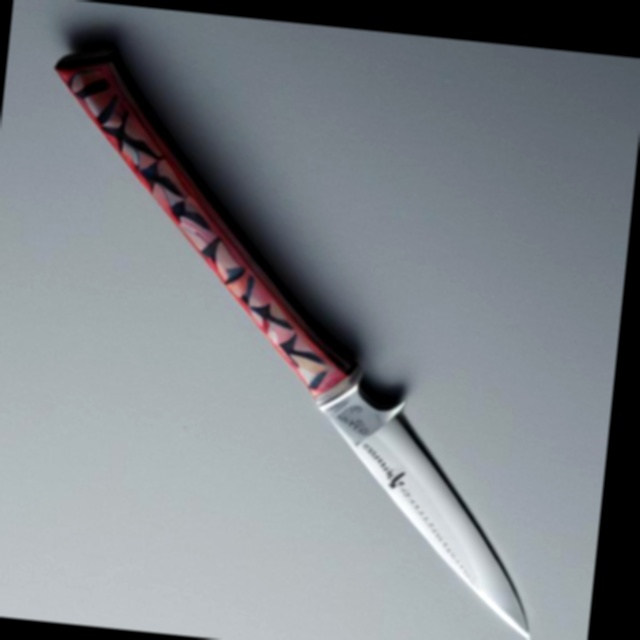Sharp-Object: (0, 31, 592, 640)
